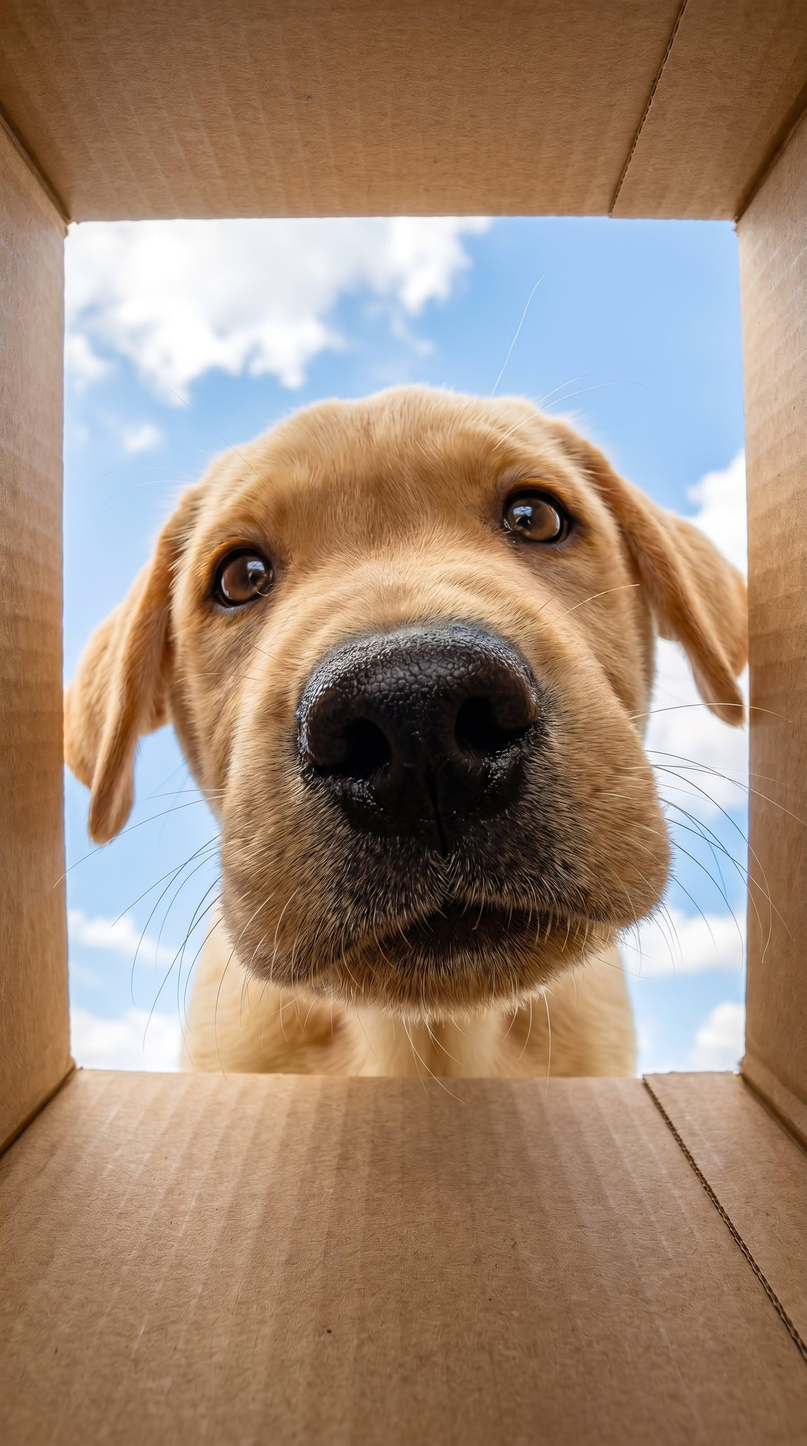puppy-dog: (62, 384, 749, 1082)
